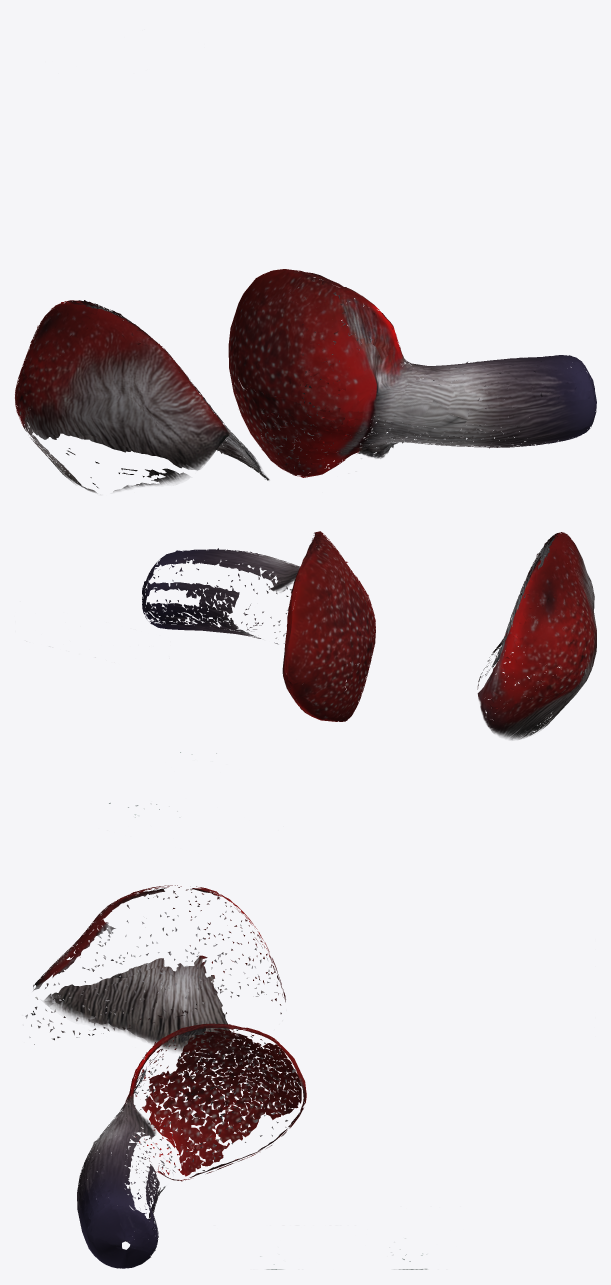
Rendered from mushroom_1788544148_35904248.glb.
3 views of the same model, one above another, from view 1: azimuth 30°, elevation 25°; view 2: azimuth 150°, elevation 25°; view 3: azimuth 270°, elevation 25° (orthographic). The views are drawn at different scales.
Parts seen in each view (by area): view 1: Hero; view 2: Hero; view 3: Hero.
Boxes of the visible parts, bbox=[...] form: Hero: bbox=[15, 269, 596, 492]; Hero: bbox=[109, 531, 596, 817]; Hero: bbox=[25, 885, 427, 1269].
Bounding box in the file's own units: 0.9262 × 0.5053 × 1.
Materials: 1 (1 with a texture image).
